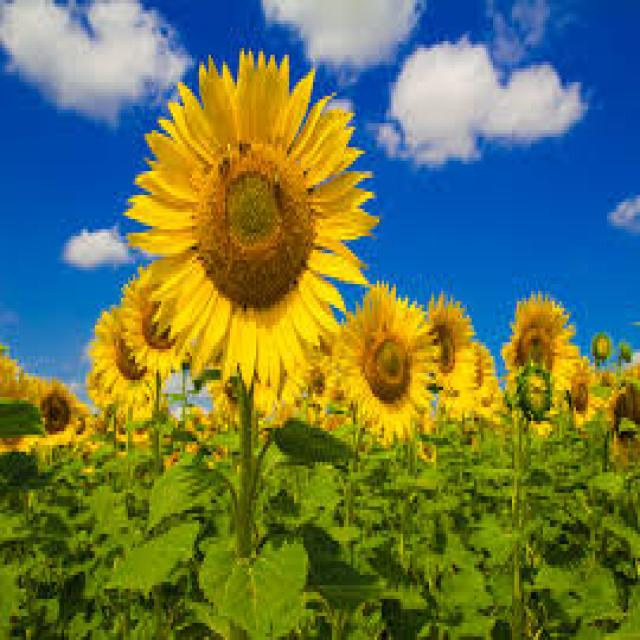sunflower: (111, 34, 365, 418), (326, 279, 435, 457), (494, 277, 582, 428), (90, 300, 164, 426), (416, 289, 482, 402)
